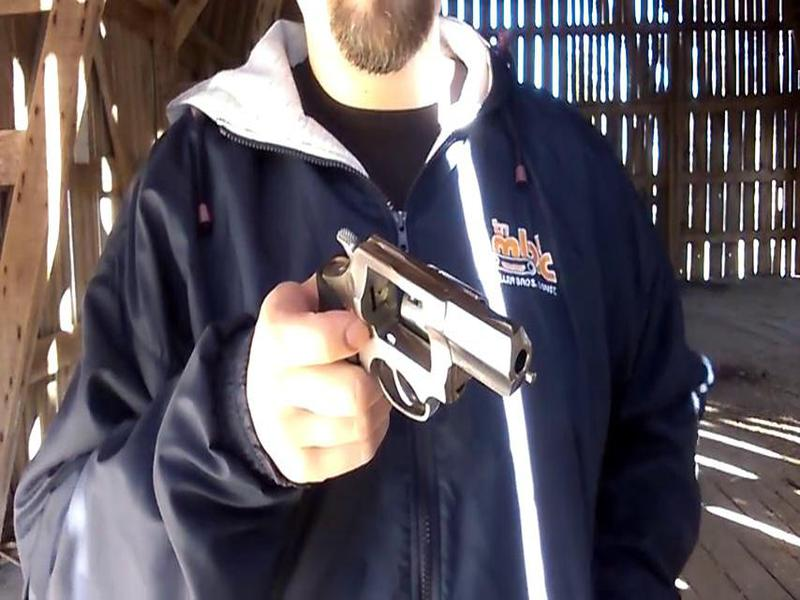Revolver: (259, 211, 570, 444)
